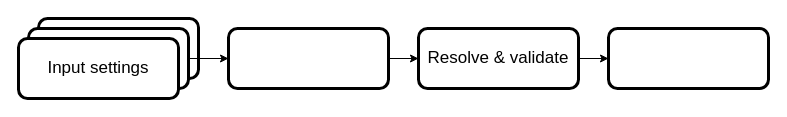
This 787x117 diagram has some shape labels left out. Here are the shapes that lost their labels. From the top down, the centre of each, then its label:
At [308,58]: "Load sources".
At [688,58]: "1 type-safe app settings object".
